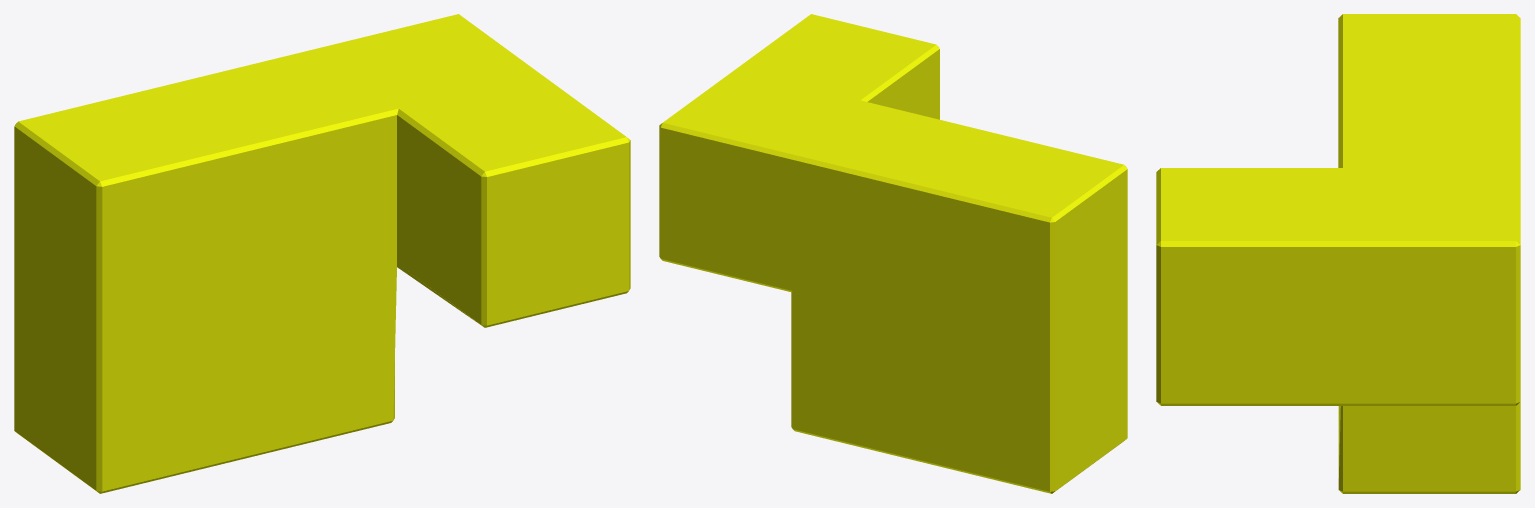
The model's file is solution.gltf.
3 views of the same model, side by side, from view 1: azimuth 30°, elevation 25°; view 2: azimuth 150°, elevation 25°; view 3: azimuth 270°, elevation 25° (orthographic). The views are drawn at different scales.
Parts seen in each view (by area): view 1: Cube.018; view 2: Cube.018; view 3: Cube.018.
Boxes of the visible parts, <box> form: Cube.018: <box>14,14,630,493</box>; Cube.018: <box>659,14,1127,493</box>; Cube.018: <box>1156,14,1520,493</box>.
Size of the model in its own units: 6 by 4 by 4.
